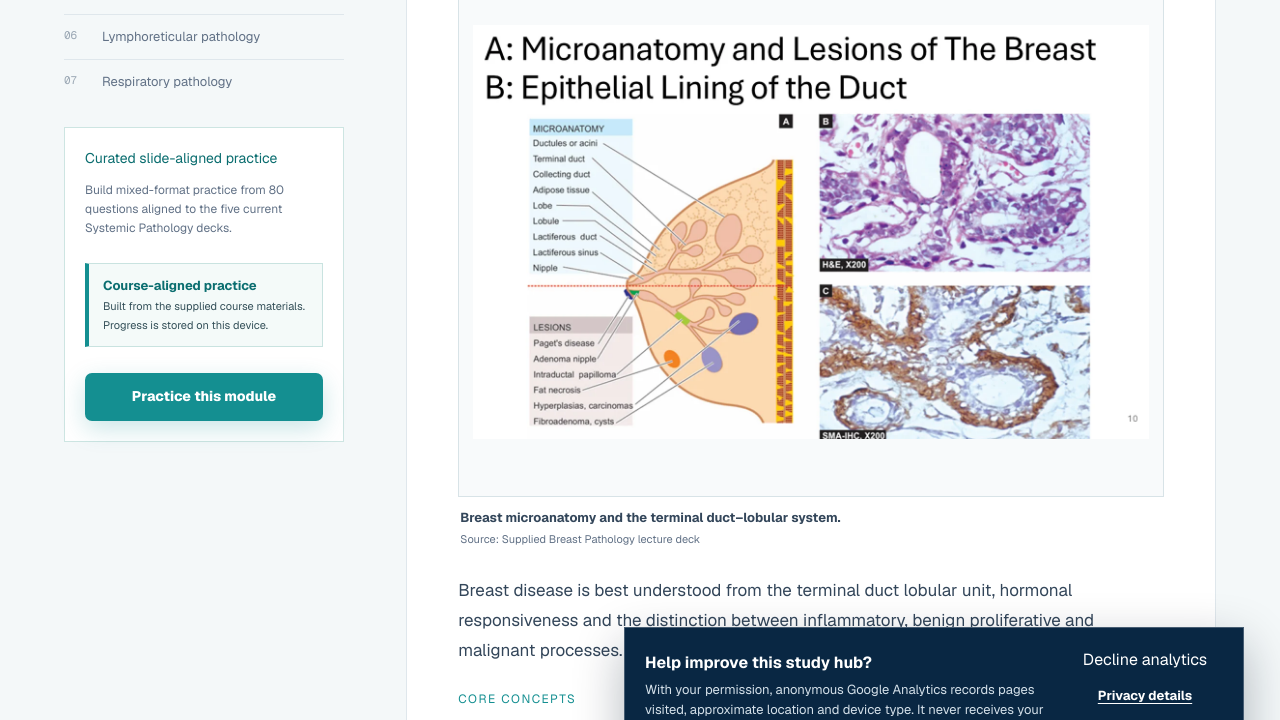
Test case: Systemic Pathology curated experience › opens curated practice from the study-page entry
This screenshot has width=1280, height=720.
(page scrolled)
Click the button with aria-label "Open curated practice" at (204,396), box [85,372,323,420]
(page scrolled)
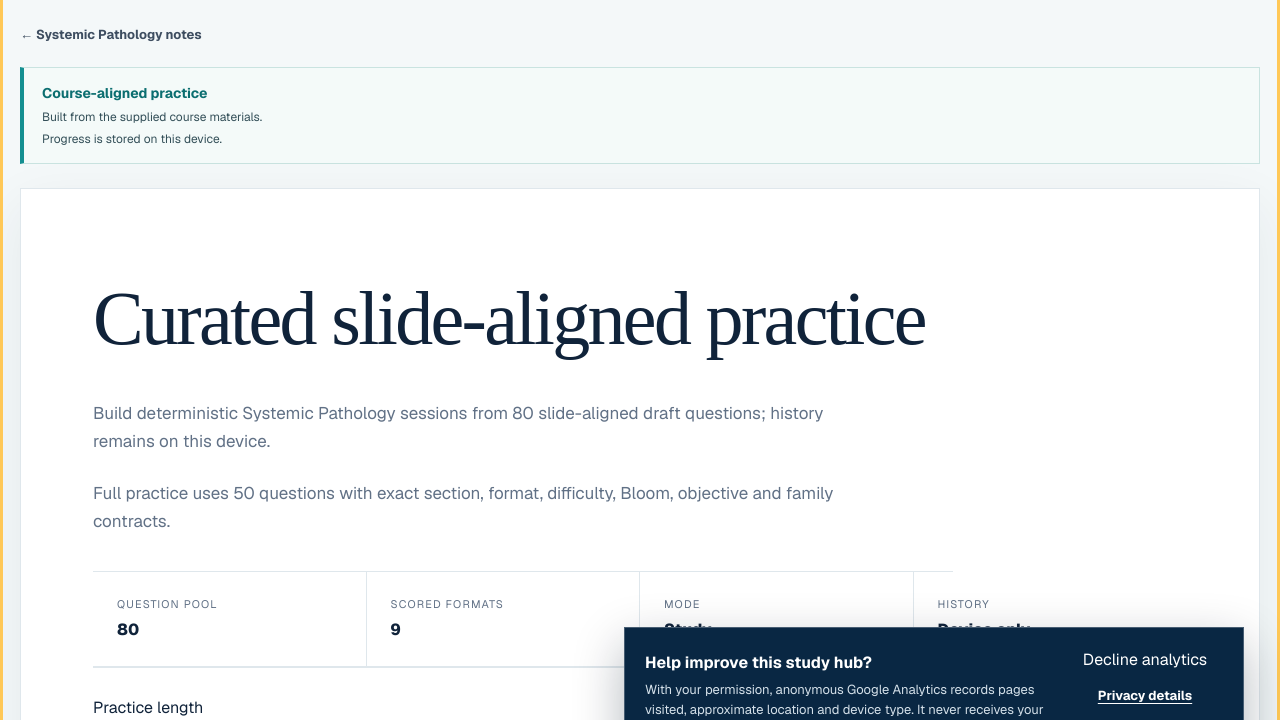
Now the heading "Curated slide-aligned practice" is shown, box [93,261,953,375]
